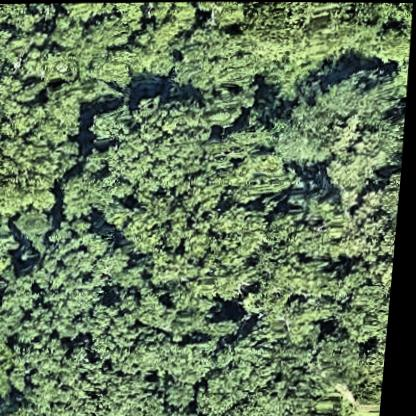tree-top: (104, 92, 215, 190), (272, 78, 387, 165), (71, 15, 171, 94), (254, 259, 343, 346), (205, 339, 302, 416), (249, 1, 342, 80), (30, 341, 120, 416), (187, 201, 272, 279), (272, 192, 362, 264), (172, 22, 258, 94), (122, 186, 206, 254), (39, 218, 119, 288), (128, 278, 221, 336), (323, 334, 391, 412), (341, 2, 413, 73), (0, 141, 66, 218), (338, 259, 397, 344), (60, 151, 126, 223), (156, 334, 227, 399), (87, 298, 150, 364), (0, 68, 44, 144), (0, 3, 59, 50), (87, 96, 138, 146), (12, 205, 59, 244), (0, 315, 23, 386), (198, 1, 261, 24), (0, 240, 22, 300), (54, 2, 119, 21), (0, 391, 7, 416)
